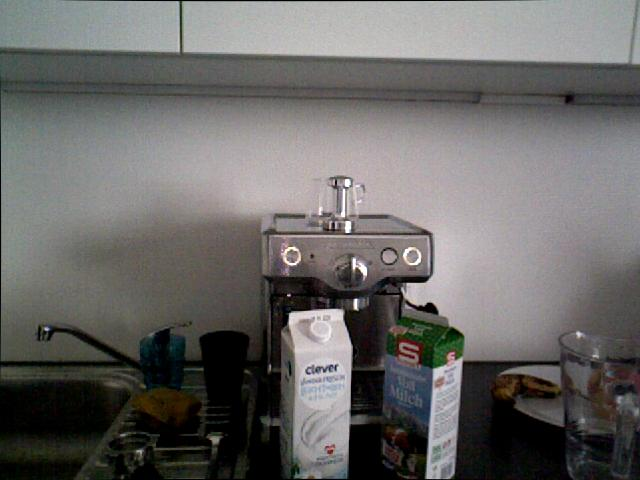bench: (383, 310, 462, 480), (277, 305, 352, 480)
couch: (0, 372, 134, 479)
handbag: (556, 326, 640, 480), (196, 328, 252, 398), (140, 331, 188, 403), (302, 174, 366, 228)
motorcycle: (490, 373, 560, 401)
